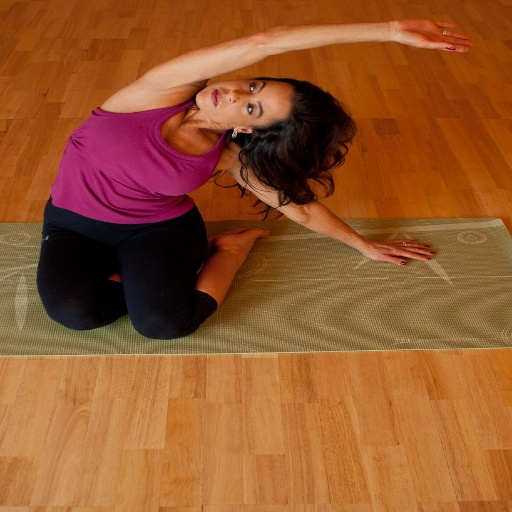hand: (381, 11, 475, 43), (359, 237, 440, 268)
